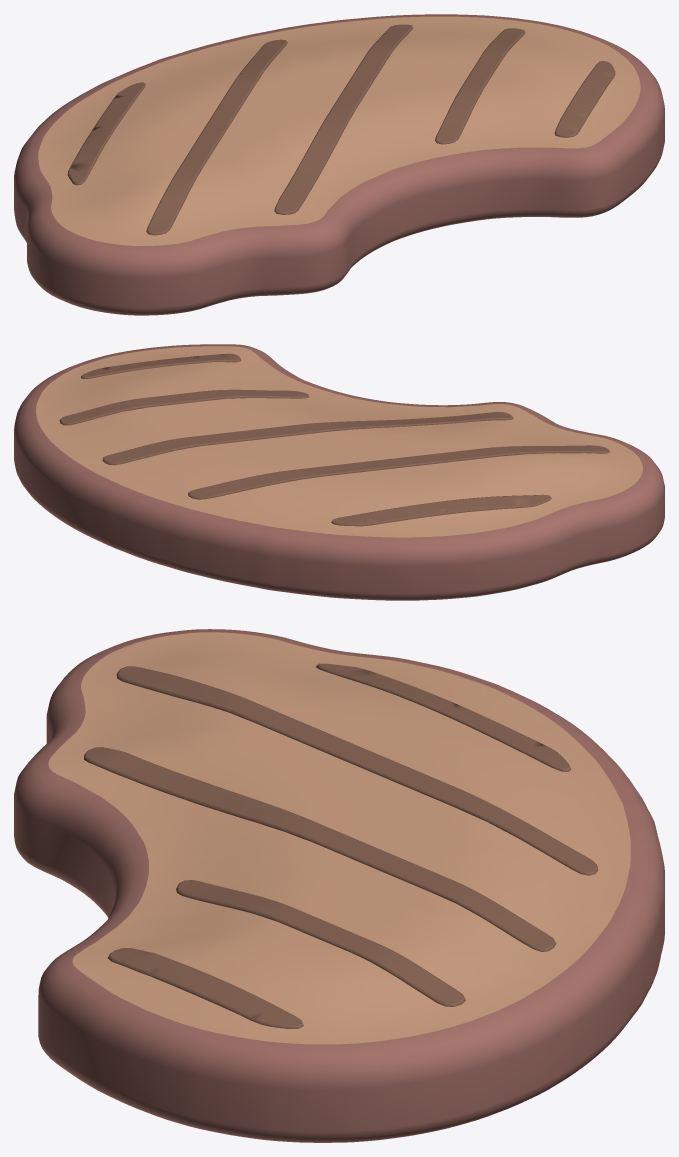
The model's file is PrimeCutKidney.glb.
3 views of the same model, one above another, from view 1: azimuth 30°, elevation 25°; view 2: azimuth 150°, elevation 25°; view 3: azimuth 270°, elevation 25° (orthographic). The views are drawn at different scales.
Parts seen in each view (by area): view 1: Meat, Crust, Marks; view 2: Meat, Crust, Marks; view 3: Meat, Crust, Marks.
Boxes of the visible parts, x1,y1,x2,y2 form: Meat: [38, 16, 640, 245]; Crust: [14, 14, 664, 315]; Marks: [67, 24, 615, 235]; Meat: [36, 346, 642, 537]; Crust: [14, 344, 664, 600]; Marks: [59, 353, 609, 526]; Meat: [48, 632, 630, 1044]; Crust: [14, 629, 664, 1142]; Marks: [84, 663, 598, 1028].
Size of the model in its own units: 15.18 by 1.77 by 9.47.
